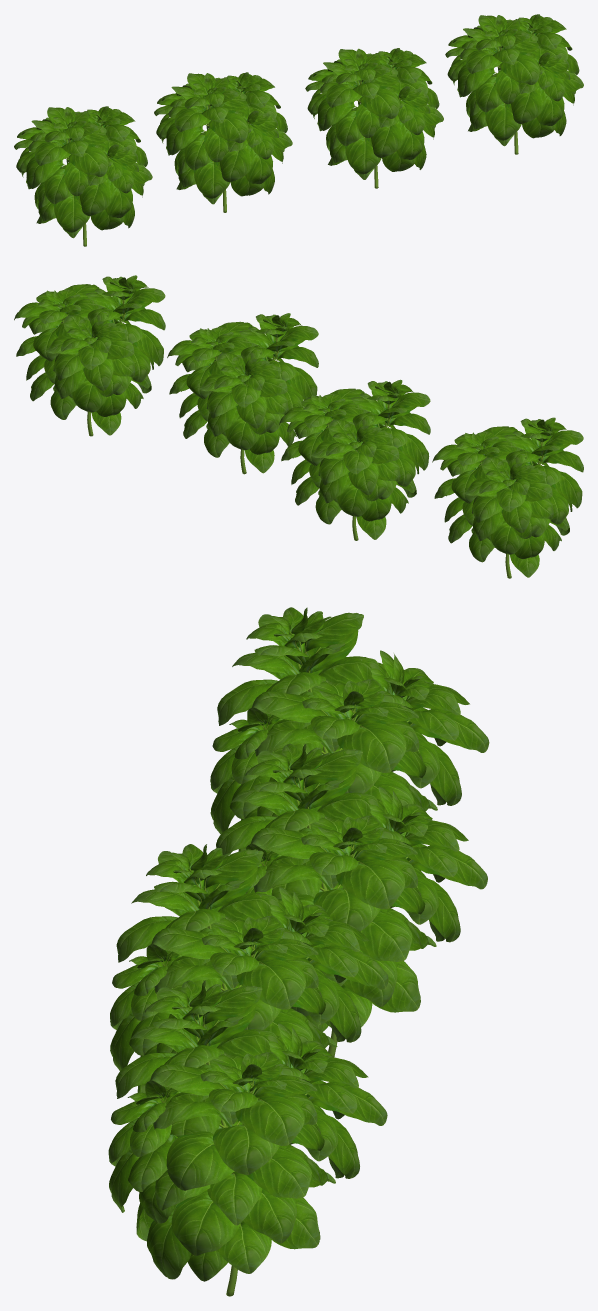
File: basil.glb
The picture shows the model from 3 angles, top to bottom: view 1: azimuth 30°, elevation 25°; view 2: azimuth 150°, elevation 25°; view 3: azimuth 270°, elevation 25°; orthographic projection. The views are drawn at different scales.
Visible parts, largest first — view 1: 3DGeom~1 (C-3DGeom~1_Defintion), 3DGeom~1_Defintion, 3DGeom~1 (C-3DGeom~1_Defintion).001, 3DGeom~1_Defintion.001; view 2: 3DGeom~1_Defintion, 3DGeom~1 (C-3DGeom~1_Defintion).001, 3DGeom~1 (C-3DGeom~1_Defintion), 3DGeom~1_Defintion.001; view 3: 3DGeom~1 (C-3DGeom~1_Defintion).001, 3DGeom~1 (C-3DGeom~1_Defintion), 3DGeom~1_Defintion.001, 3DGeom~1_Defintion.
Boxes of the visible parts, x1,y1,x2,y2 form: 3DGeom~1 (C-3DGeom~1_Defintion): (154,72,292,212); 3DGeom~1_Defintion: (14,106,152,246); 3DGeom~1 (C-3DGeom~1_Defintion).001: (445,14,583,154); 3DGeom~1_Defintion.001: (305,48,443,188); 3DGeom~1_Defintion: (432,417,583,578); 3DGeom~1 (C-3DGeom~1_Defintion).001: (14,275,165,436); 3DGeom~1 (C-3DGeom~1_Defintion): (279,379,430,540); 3DGeom~1_Defintion.001: (167,313,318,474); 3DGeom~1 (C-3DGeom~1_Defintion).001: (108,980,387,1296); 3DGeom~1 (C-3DGeom~1_Defintion): (216,743,487,1057); 3DGeom~1_Defintion.001: (110,844,388,1093); 3DGeom~1_Defintion: (210,607,489,851).
Bounding box in the file's own units: 0.8692 × 0.2503 × 0.2744.
1 material, 1 textured.
